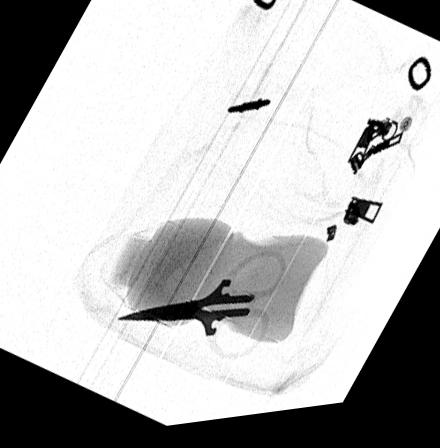Scissors: (114, 257, 285, 366)
